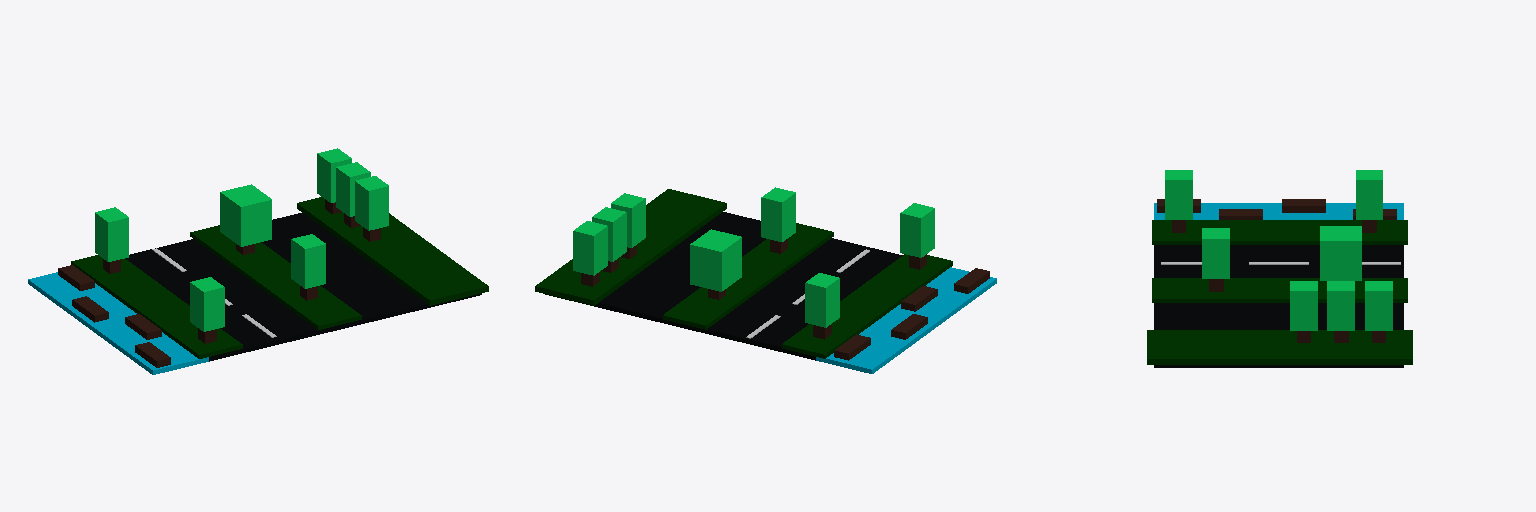
The model's file is Piso_Crossy_Road.obj.
3 views of the same model, side by side, from view 1: azimuth 30°, elevation 25°; view 2: azimuth 150°, elevation 25°; view 3: azimuth 270°, elevation 25° (orthographic).
Parts seen in each view (by area): view 1: Cube_Cube.001, Cube.010, Cube.002_Cube.003, Cube.001_Cube.002, Cube.025, Cube.014, Cube.023, Cube.021, Cube.017, Cube.015, Cube.020, Cube.012 (+4 smaller); view 2: Cube_Cube.001, Cube.010, Cube.002_Cube.003, Cube.001_Cube.002, Cube.025, Cube.014, Cube.015, Cube.020, Cube.023, Cube.021, Cube.017, Cube.012 (+4 smaller); view 3: Cube_Cube.001, Cube.010, Cube.002_Cube.003, Cube.001_Cube.002, Cube.014, Cube.025, Cube.021, Cube.012, Cube.017, Cube.020, Cube.023, Cube.015 (+1 smaller).
Boxes of the visible parts, x1=… form: Cube_Cube.001: x1=125, y1=213, x2=481, y2=361; Cube.010: x1=297, y1=197, x2=488, y2=305; Cube.002_Cube.003: x1=71, y1=255, x2=242, y2=358; Cube.001_Cube.002: x1=190, y1=225, x2=361, y2=329; Cube.025: x1=28, y1=272, x2=208, y2=374; Cube.014: x1=220, y1=184, x2=271, y2=246; Cube.023: x1=190, y1=277, x2=224, y2=331; Cube.021: x1=291, y1=234, x2=325, y2=288; Cube.017: x1=355, y1=176, x2=388, y2=230; Cube.015: x1=95, y1=207, x2=128, y2=261; Cube.020: x1=317, y1=148, x2=351, y2=202; Cube.012: x1=336, y1=162, x2=370, y2=216; Cube_Cube.001: x1=545, y1=212, x2=902, y2=360; Cube.010: x1=535, y1=189, x2=726, y2=305; Cube.002_Cube.003: x1=782, y1=254, x2=952, y2=358; Cube.001_Cube.002: x1=663, y1=223, x2=833, y2=329; Cube.025: x1=816, y1=267, x2=996, y2=373; Cube.014: x1=690, y1=229, x2=741, y2=291; Cube.015: x1=805, y1=273, x2=839, y2=327; Cube.020: x1=573, y1=221, x2=607, y2=275; Cube.023: x1=900, y1=203, x2=934, y2=257; Cube.021: x1=761, y1=187, x2=795, y2=241; Cube.017: x1=611, y1=193, x2=645, y2=247; Cube.012: x1=592, y1=207, x2=626, y2=261; Cube_Cube.001: x1=1154, y1=245, x2=1403, y2=367; Cube.010: x1=1147, y1=330, x2=1412, y2=364; Cube.002_Cube.003: x1=1152, y1=220, x2=1407, y2=244; Cube.001_Cube.002: x1=1152, y1=278, x2=1407, y2=302; Cube.014: x1=1320, y1=226, x2=1361, y2=280; Cube.025: x1=1154, y1=203, x2=1403, y2=219; Cube.021: x1=1202, y1=228, x2=1229, y2=278; Cube.012: x1=1327, y1=281, x2=1354, y2=330; Cube.017: x1=1290, y1=281, x2=1317, y2=330; Cube.020: x1=1365, y1=281, x2=1392, y2=330; Cube.023: x1=1165, y1=170, x2=1192, y2=219; Cube.015: x1=1356, y1=170, x2=1382, y2=219.
Size of the model in its own units: 30.7 by 5.77 by 21.32.